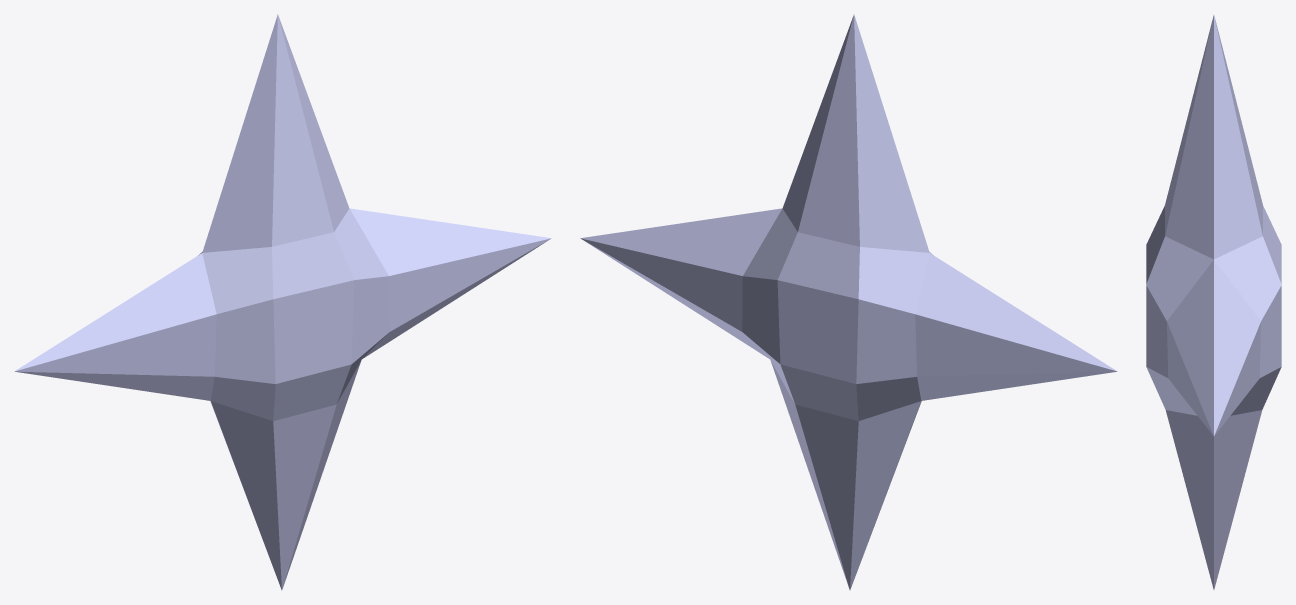
The model's file is Raven_Star.fbx.
3 renders of one model, left to right at view 1: azimuth 30°, elevation 25°; view 2: azimuth 150°, elevation 25°; view 3: azimuth 270°, elevation 25°, orthographic.
Parts seen in each view (by area): view 1: Plane; view 2: Plane; view 3: Plane.
Boxes of the visible parts, x1,y1,x2,y2 form: Plane: (14, 14, 551, 590); Plane: (580, 14, 1117, 590); Plane: (1146, 15, 1281, 589).
Bounding box in the file's own units: 114 × 117 × 24.93.
